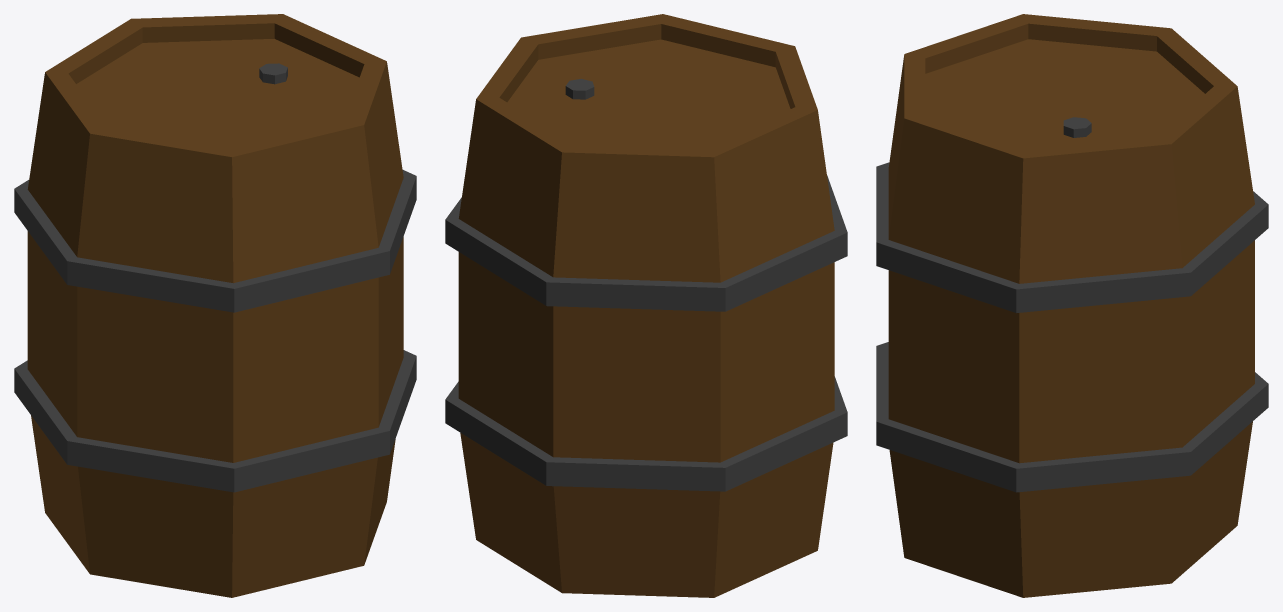
The model's file is barrel.fbx.
3 renders of one model, left to right at view 1: azimuth 30°, elevation 25°; view 2: azimuth 150°, elevation 25°; view 3: azimuth 270°, elevation 25°, orthographic.
Visible parts, largest first — view 1: Cylinder.003; view 2: Cylinder.003; view 3: Cylinder.003.
Boxes of the visible parts, x1,y1,x2,y2 form: Cylinder.003: (14,14,416,597); Cylinder.003: (445,14,847,597); Cylinder.003: (876,14,1268,597).
Size of the model in its own units: 174 by 215 by 178.
